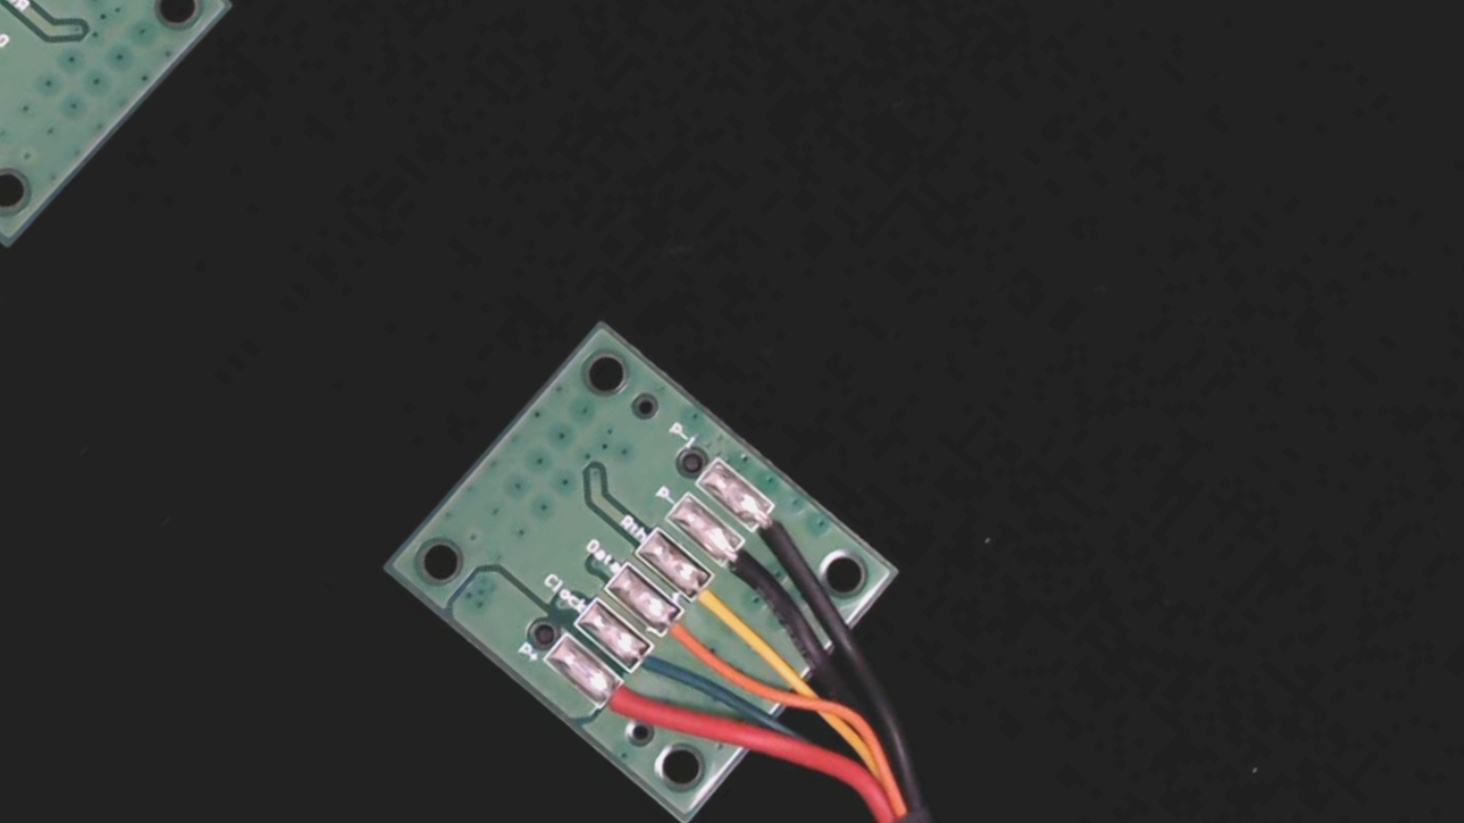Black: (700, 522, 793, 610)
Black1: (732, 489, 818, 571)
Green: (604, 622, 696, 708)
Orange: (637, 590, 729, 675)
Red: (577, 660, 669, 747)
Yellow: (672, 553, 765, 642)
